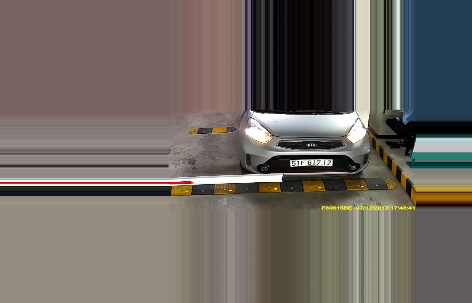plate: (290, 156, 333, 169)
